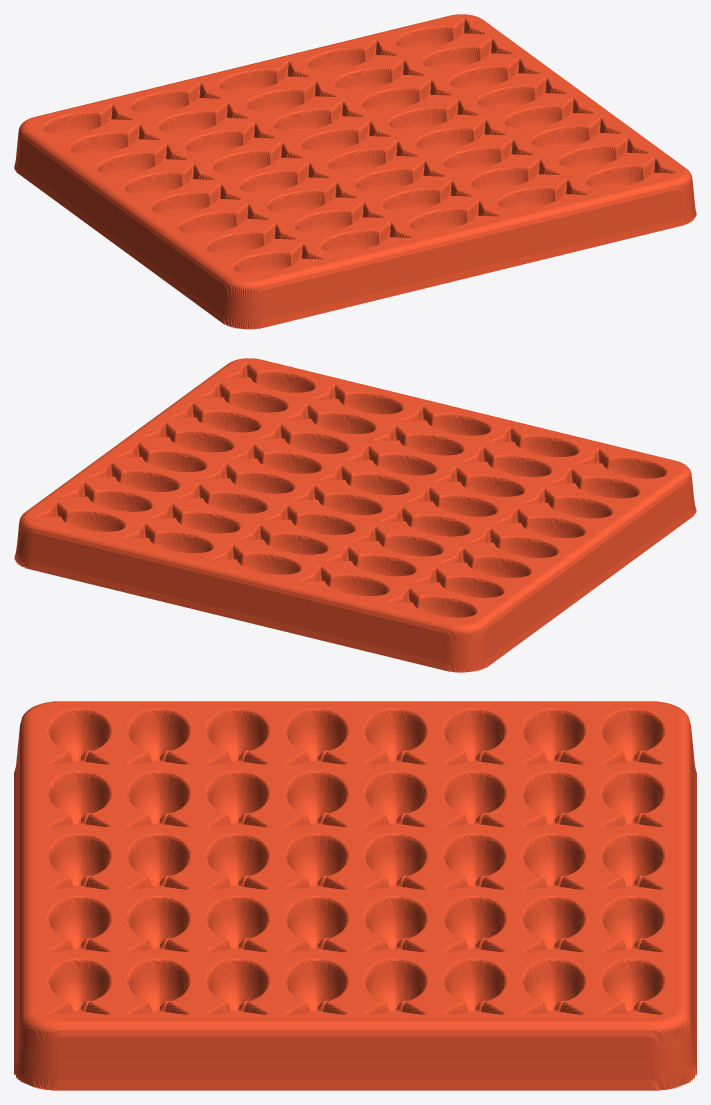
File: mold.glb
3 views of the same model, one above another, from view 1: azimuth 30°, elevation 25°; view 2: azimuth 150°, elevation 25°; view 3: azimuth 270°, elevation 25° (orthographic). The views are drawn at different scales.
Parts seen in each view (by area): view 1: geometry_0; view 2: geometry_0; view 3: geometry_0.
Part boxes in pixels (x1,y1,x2,y2): geometry_0: (14, 14, 696, 329); geometry_0: (14, 358, 696, 672); geometry_0: (14, 701, 696, 1090).
Bounding box in the file's own units: 0.1571 × 0.0136 × 0.1357.
